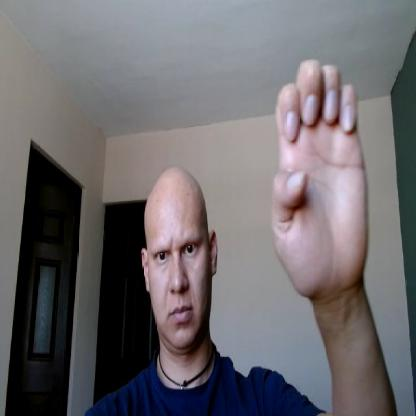E: (271, 57, 370, 292)
